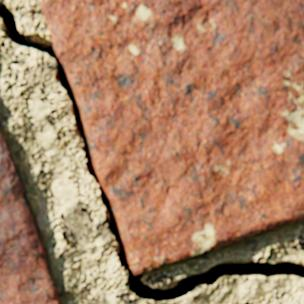brick: (38, 0, 303, 274), (0, 129, 61, 303)
crack: (0, 1, 303, 303)
